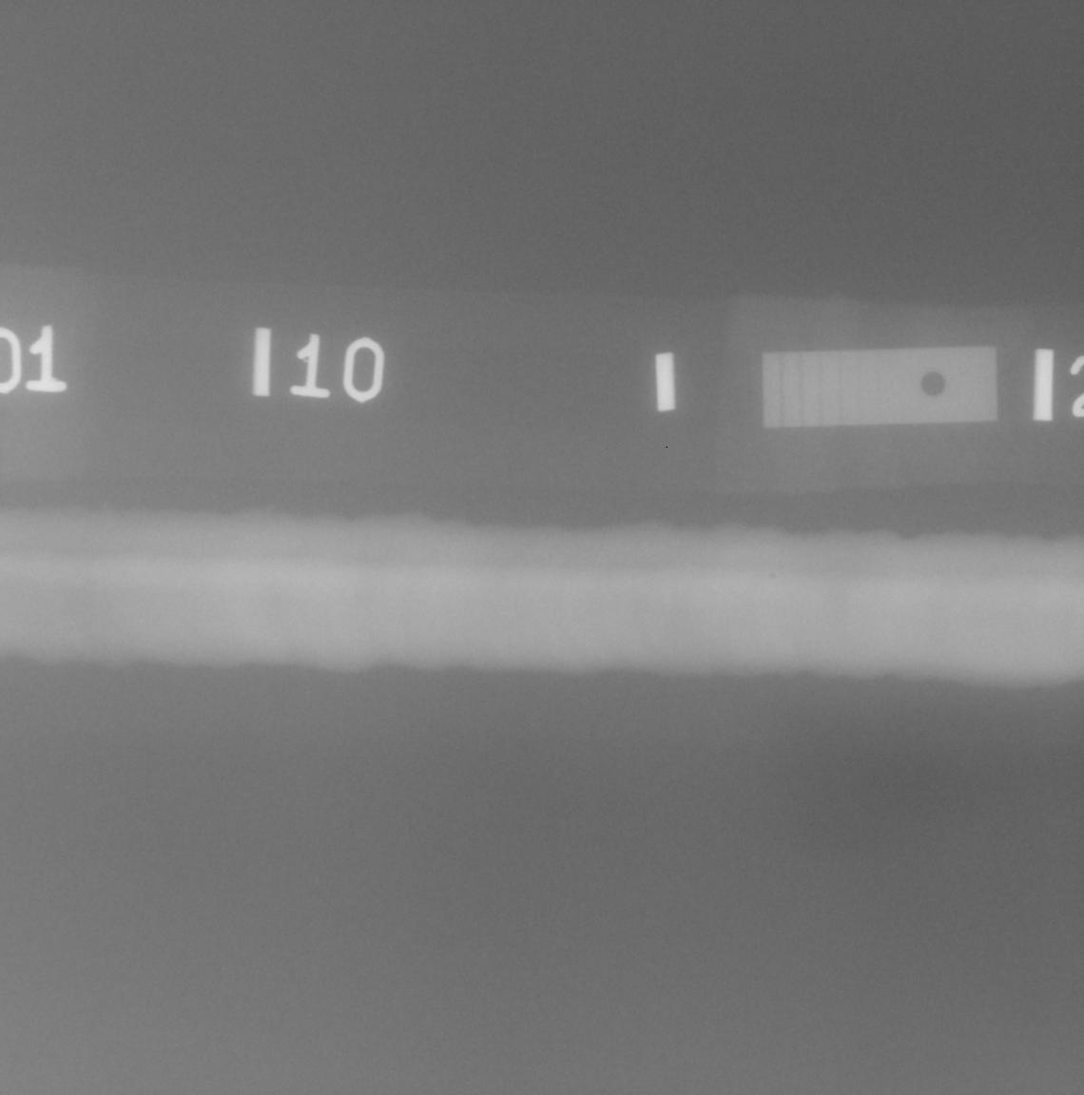Pore/Porosity: (769, 570, 777, 579)
Reference Standard 1: (761, 348, 998, 427)
